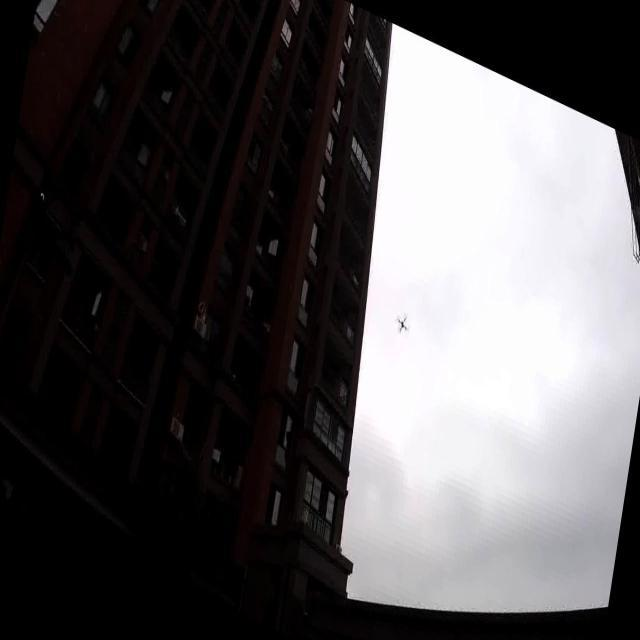drone: (394, 308, 411, 339)
